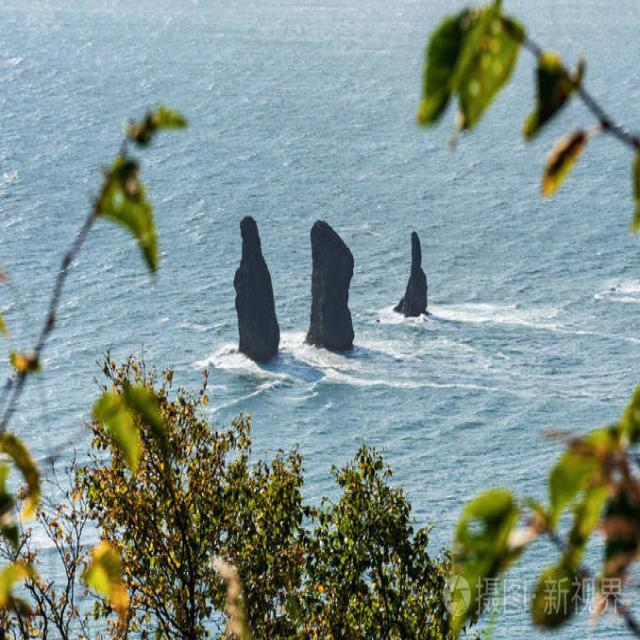reef: (200, 220, 486, 366)
